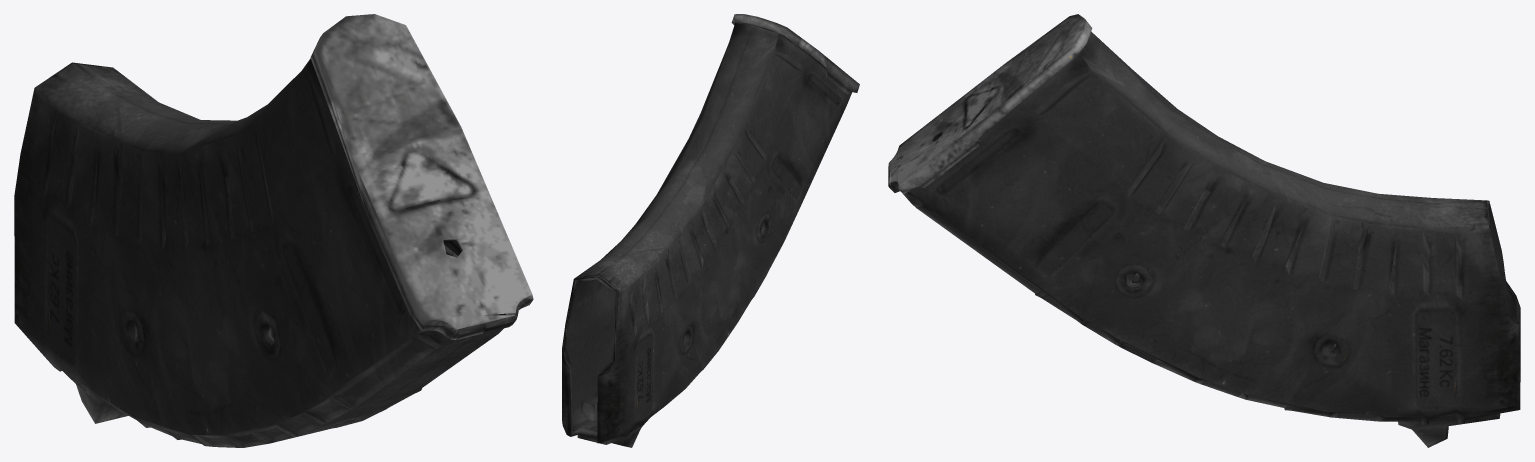
The model's file is MagSVDExtSm.fbx.
3 views of the same model, side by side, from view 1: azimuth 30°, elevation 25°; view 2: azimuth 150°, elevation 25°; view 3: azimuth 270°, elevation 25° (orthographic). The views are drawn at different scales.
Visible parts, largest first — view 1: MagSVDExtSm; view 2: MagSVDExtSm; view 3: MagSVDExtSm.
Boxes of the visible parts, box(x1,y1,x2,y2) form: MagSVDExtSm: box(14, 14, 533, 447); MagSVDExtSm: box(562, 14, 859, 447); MagSVDExtSm: box(888, 14, 1520, 447).
Bounding box in the file's own units: 0.0213 × 0.1031 × 0.1406.
